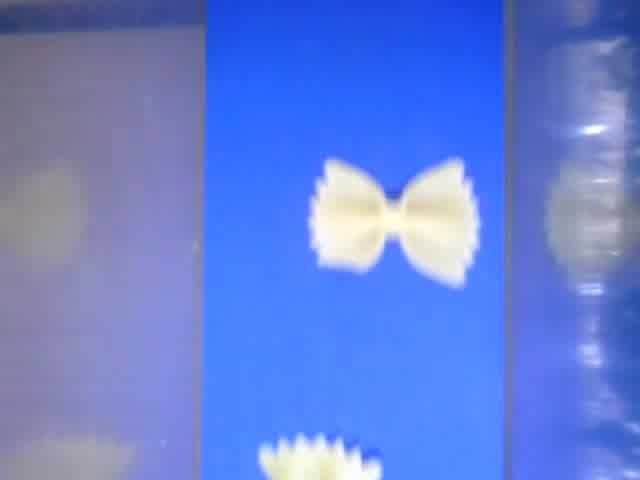farfalle: (307, 154, 482, 290), (258, 431, 383, 480)
